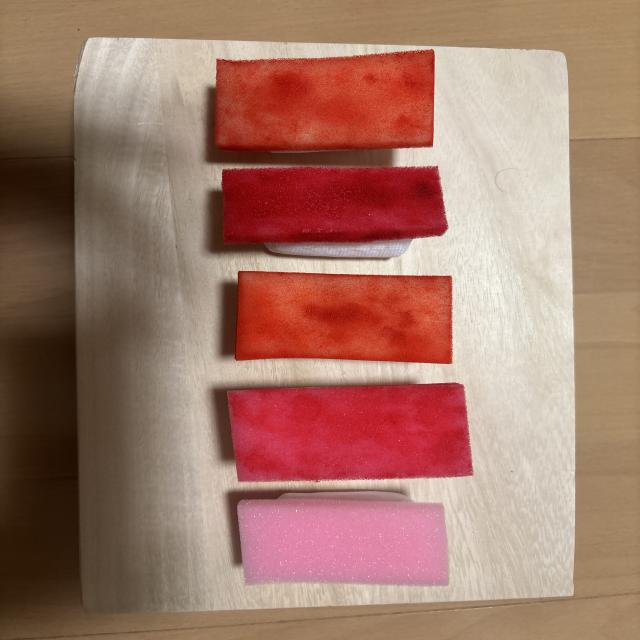maguro: (228, 383, 473, 481), (222, 167, 448, 258)
salmon: (215, 50, 434, 152), (235, 271, 452, 363)
tai: (238, 492, 449, 585)
